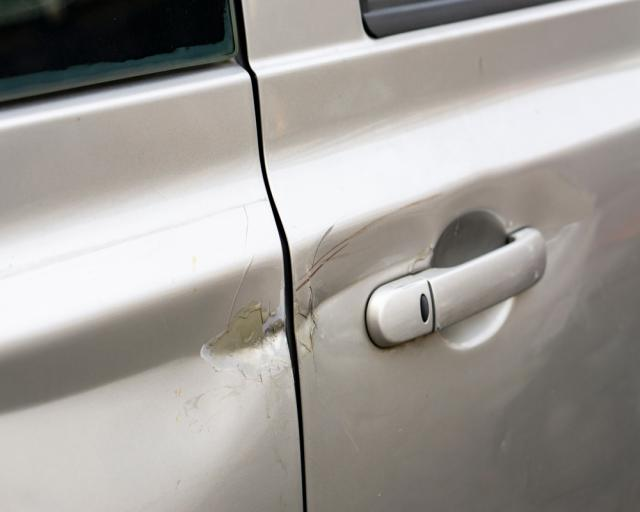dent: (131, 260, 290, 485), (310, 215, 434, 398), (507, 166, 601, 274)
